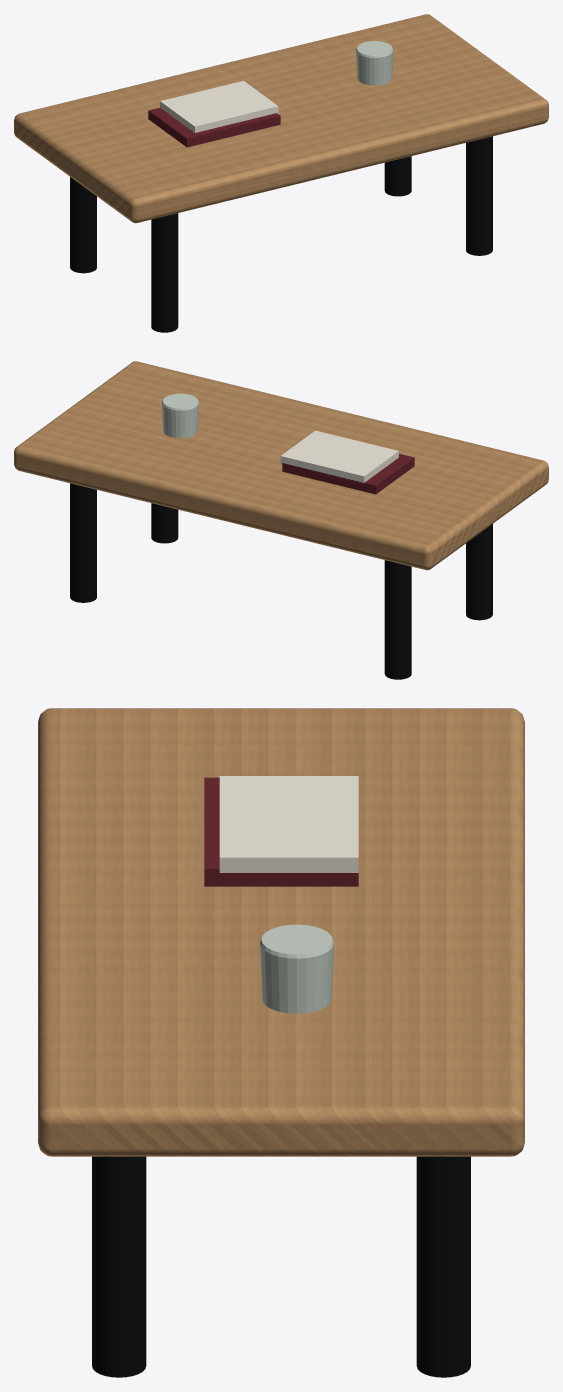
Rendered from rounded_coffee_table.dae.
3 views of the same model, one above another, from view 1: azimuth 30°, elevation 25°; view 2: azimuth 150°, elevation 25°; view 3: azimuth 270°, elevation 25° (orthographic). The views are drawn at different scales.
Visible parts, largest first — view 1: oak, charcoal, white, burgundy, ceramic; view 2: oak, charcoal, white, burgundy, ceramic; view 3: oak, charcoal, white, ceramic, burgundy.
Part boxes in pixels (x1,y1,x2,y2): oak: (14, 14, 548, 223); charcoal: (70, 136, 492, 332); white: (160, 80, 278, 132); burgundy: (148, 107, 280, 147); ceramic: (356, 41, 393, 85); oak: (14, 361, 548, 570); charcoal: (70, 483, 492, 679); white: (280, 430, 398, 483); burgundy: (282, 453, 414, 494); ceramic: (162, 393, 198, 438); oak: (38, 708, 524, 1156); charcoal: (92, 1156, 470, 1377); white: (219, 776, 358, 872); ceramic: (260, 924, 333, 1013); burgundy: (204, 777, 358, 886).
Size of the model in its own units: 1.25 by 0.63 by 0.525.
5 materials, 1 textured.
